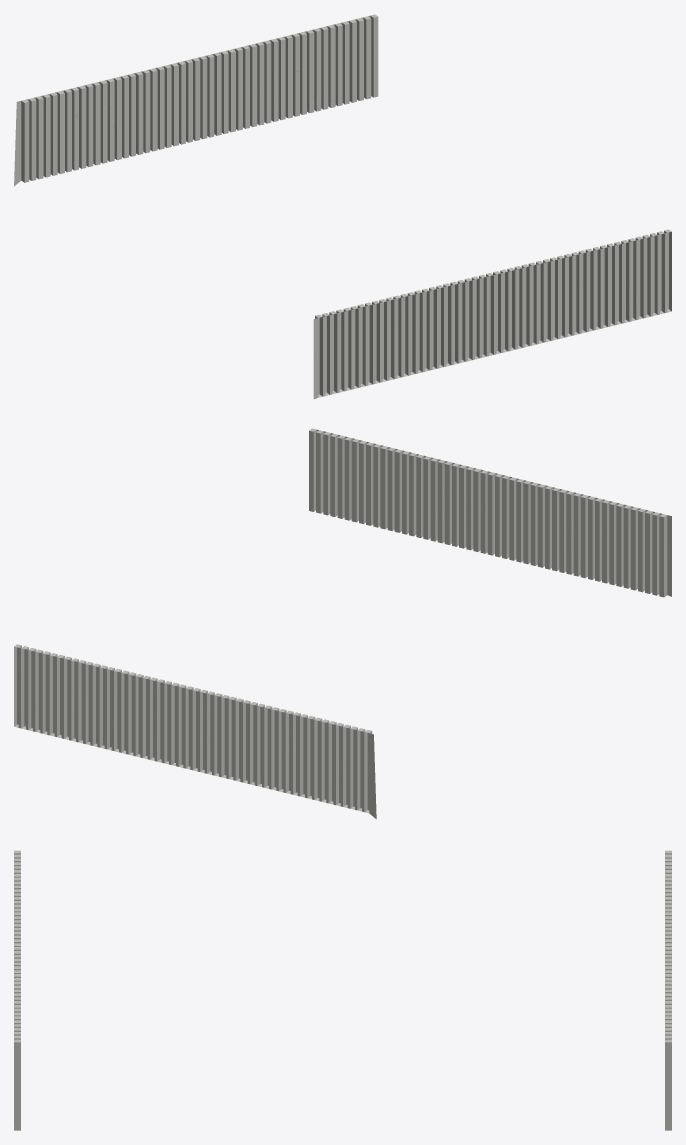
Rendered from theta_side_pillar.fbx.
3 renders of one model, top to bottom at view 1: azimuth 30°, elevation 25°; view 2: azimuth 150°, elevation 25°; view 3: azimuth 270°, elevation 25°, orthographic. The views are drawn at different scales.
Visible parts, largest first — view 1: concrete.001, concrete.002; view 2: concrete.002, concrete.001; view 3: concrete.001, concrete.002.
Boxes of the visible parts, <box> form: concrete.001: <box>14,14,378,186</box>; concrete.002: <box>313,229,671,399</box>; concrete.002: <box>309,428,671,597</box>; concrete.001: <box>14,644,376,819</box>; concrete.001: <box>665,850,671,1130</box>; concrete.002: <box>14,850,20,1130</box>.
Size of the model in its own units: 1981 by 441 by 2820.
Materials: 1 (1 with a texture image).
